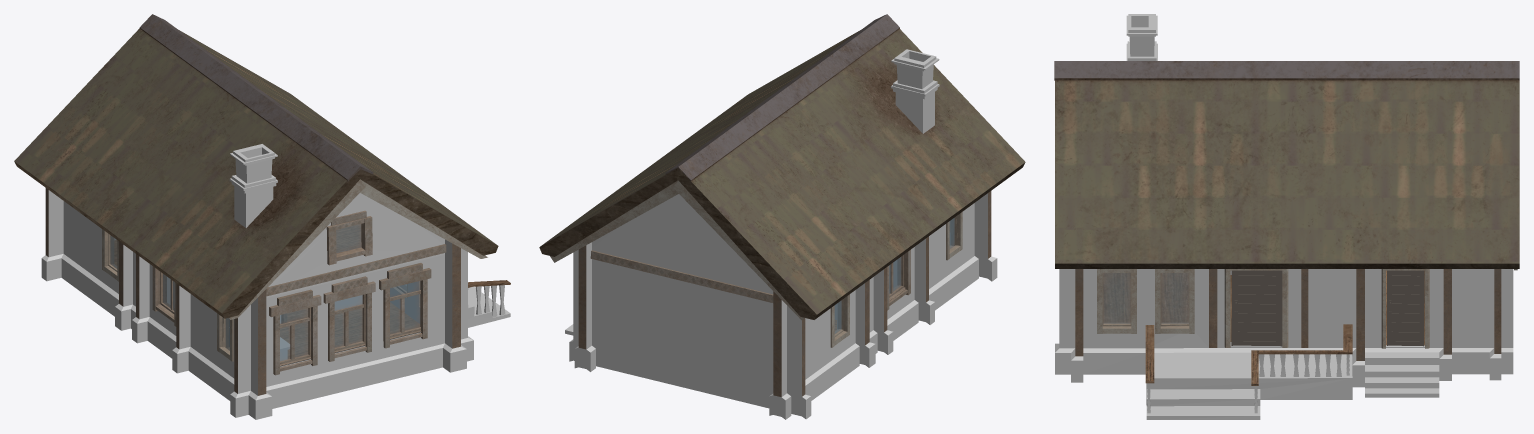
3 views of the same model, side by side, from view 1: azimuth 30°, elevation 25°; view 2: azimuth 150°, elevation 25°; view 3: azimuth 270°, elevation 25° (orthographic). The views are drawn at different scales.
Parts seen in each view (by area): view 1: object 1, Object001_PivotDoor001_0, object 4, object 2, object 3; view 2: object 1, Object001_PivotDoor001_0, object 4, object 3, object 2; view 3: object 1, Object001_PivotDoor001_0, object 4, PivotDoor001, object 2, object 3.
Part boxes in pixels (x1,y1,x2,y2): object 1: (14,14,498,318); Object001_PivotDoor001_0: (41,190,510,419); object 4: (45,179,510,395); object 2: (110,224,420,361); object 3: (229,144,289,360); object 1: (539,14,1025,319); Object001_PivotDoor001_0: (565,193,997,419); object 4: (550,180,991,397); object 3: (891,49,939,133); object 2: (834,218,954,333); object 1: (1054,61,1519,268); Object001_PivotDoor001_0: (1055,269,1513,419); object 4: (1075,269,1517,385); PivotDoor001: (1231,270,1424,346); object 2: (1103,270,1424,345); object 3: (1126,14,1157,60).
Bounding box in the file's own units: 5.14 × 3.4 × 5.57.
